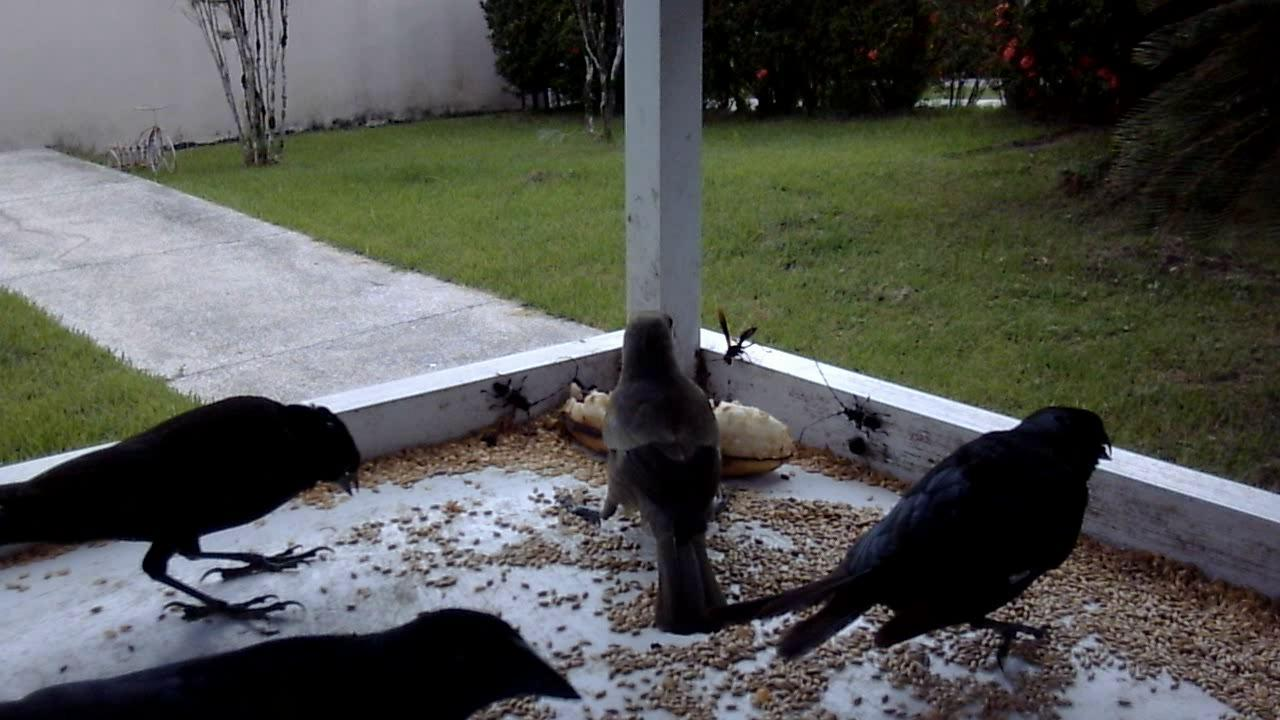chupim: (676, 382, 1116, 686), (3, 376, 386, 636), (1, 584, 632, 713)
sanhaco_do_coqueiro: (562, 305, 731, 557)
